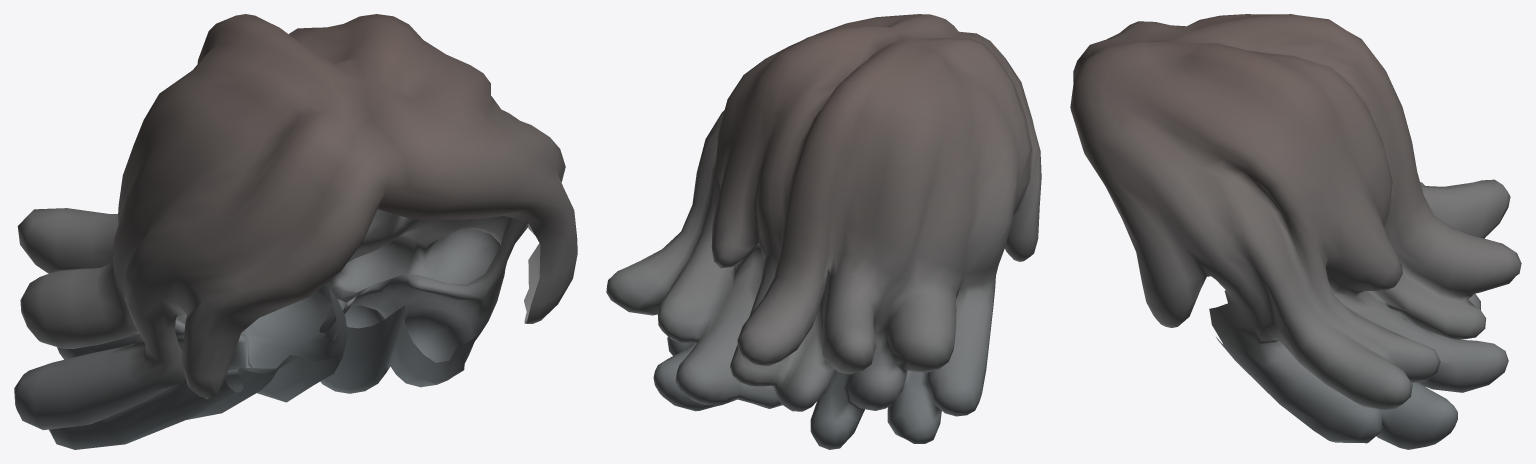
Rendered from Hairstyle_Female_06.glb.
The picture shows the model from 3 angles, left to right: view 1: azimuth 30°, elevation 25°; view 2: azimuth 150°, elevation 25°; view 3: azimuth 270°, elevation 25°; orthographic projection. The views are drawn at different scales.
Parts seen in each view (by area): view 1: Hairstyle_Female_06; view 2: Hairstyle_Female_06; view 3: Hairstyle_Female_06.
Boxes of the visible parts, x1=… form: Hairstyle_Female_06: x1=14, y1=14, x2=577, y2=449; Hairstyle_Female_06: x1=606, y1=14, x2=1041, y2=449; Hairstyle_Female_06: x1=1070, y1=14, x2=1521, y2=449.
Bounding box in the file's own units: 0.809 × 0.7124 × 0.8015.
1 material, 1 textured.
